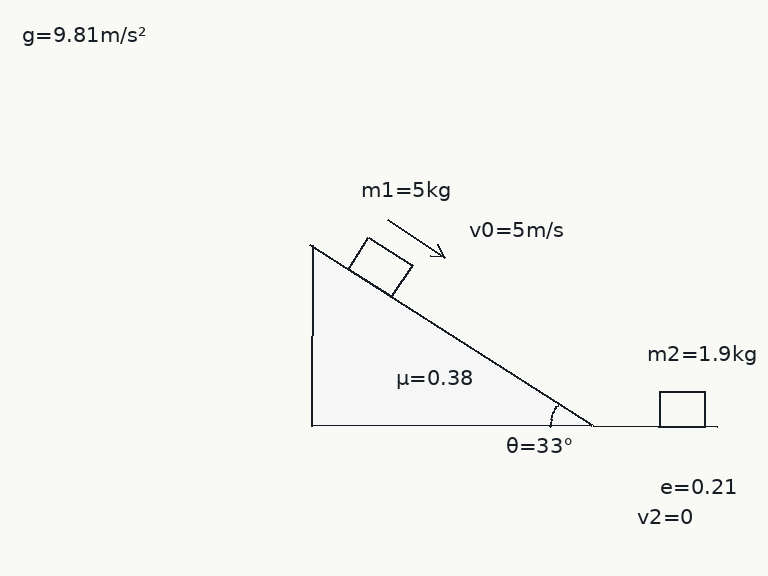block: (346, 235, 414, 298), (657, 390, 707, 428)
ramp: (309, 242, 593, 428)
